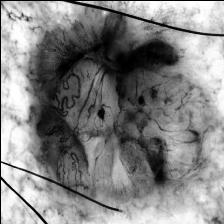Potentially Malignant Skin Tumors: (36, 36, 206, 182)
